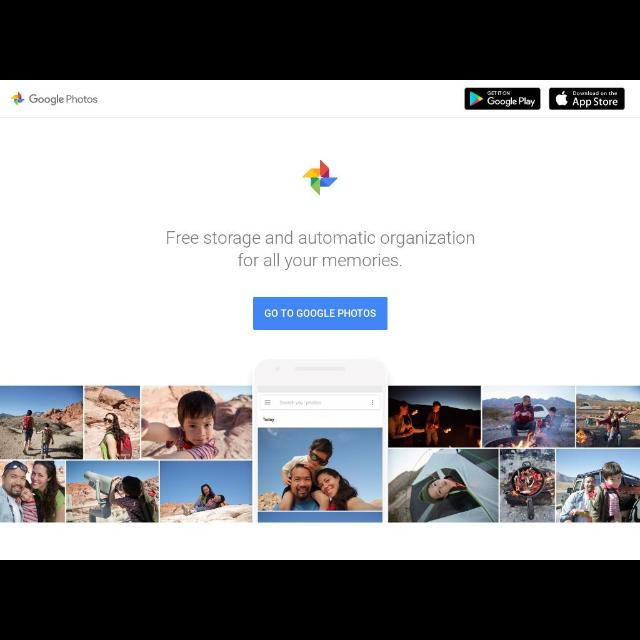image: (1, 386, 253, 522), (388, 386, 640, 522), (255, 359, 388, 523), (302, 160, 338, 196), (12, 92, 98, 106), (468, 92, 484, 106), (556, 92, 568, 106)
text: (166, 230, 476, 270), (264, 308, 376, 318), (486, 90, 536, 108), (572, 90, 618, 108)
textbutton: (253, 296, 387, 330), (465, 88, 541, 110), (549, 88, 625, 110)
toolbar: (1, 80, 640, 118)
